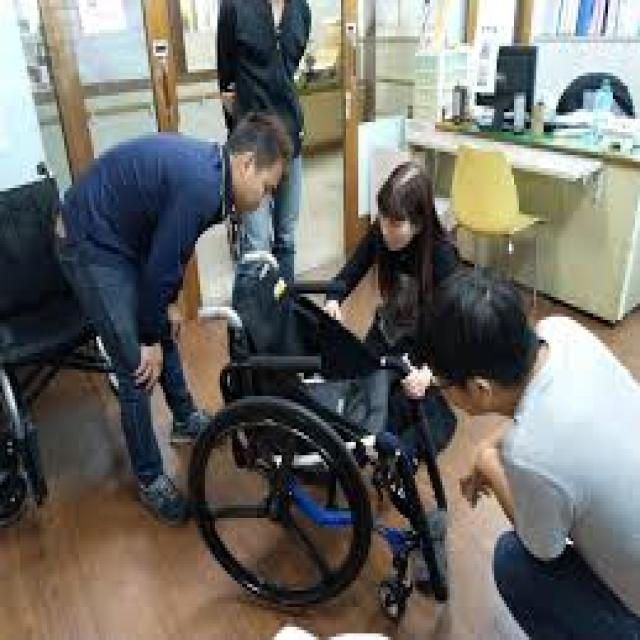wheelchairs: (185, 234, 457, 637)
